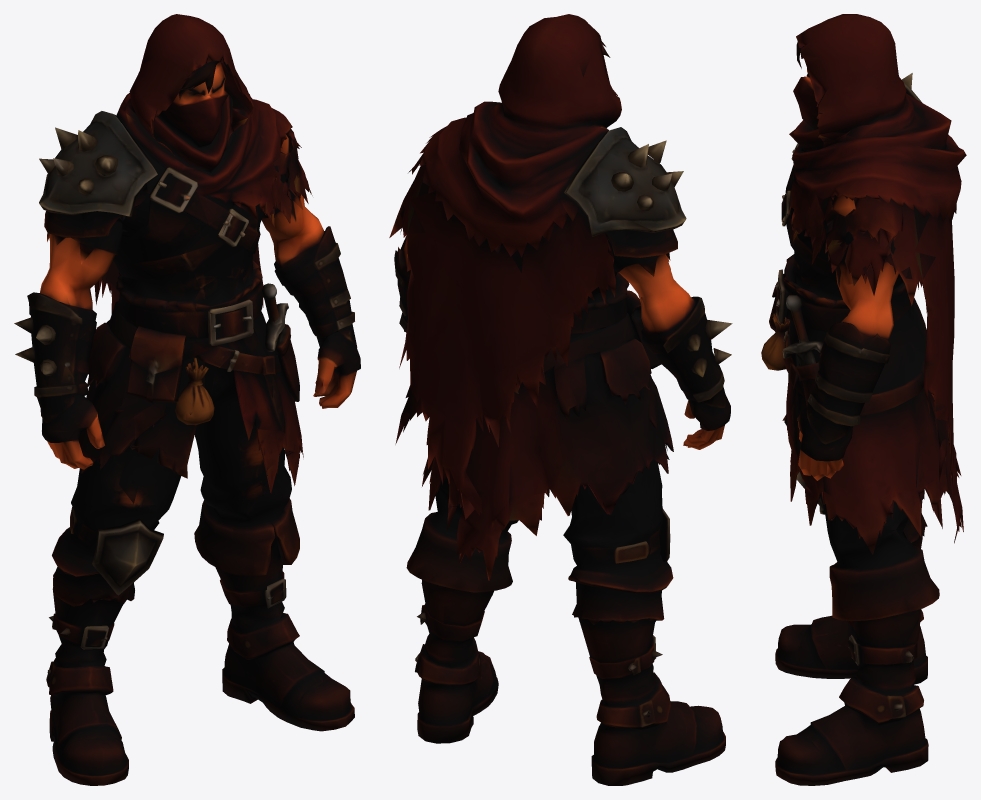
File: koerper.glb
3 views of the same model, side by side, from view 1: azimuth 30°, elevation 25°; view 2: azimuth 150°, elevation 25°; view 3: azimuth 270°, elevation 25° (orthographic). The views are drawn at different scales.
Visible parts, largest first — view 1: koerper; view 2: koerper; view 3: koerper.
Boxes of the visible parts, box(x1,y1,x2,y2) form: koerper: box(14, 14, 360, 785); koerper: box(389, 14, 732, 785); koerper: box(761, 14, 966, 785).
Size of the model in its own units: 0.8552 by 1.8 by 0.4775.
Materials: 1 (1 with a texture image).
